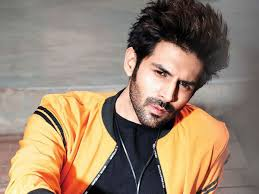b.y: (143, 97, 168, 130)
